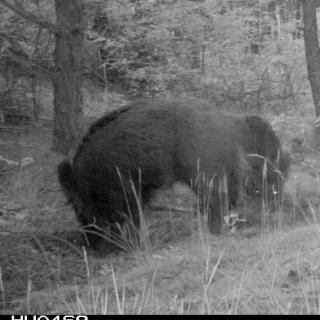Pig: (41, 85, 317, 256)
